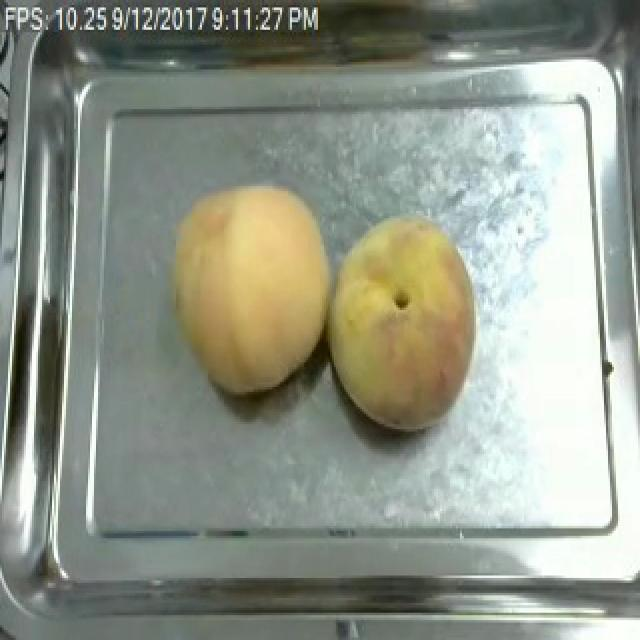Fruit: (160, 176, 344, 402), (318, 208, 488, 436)
